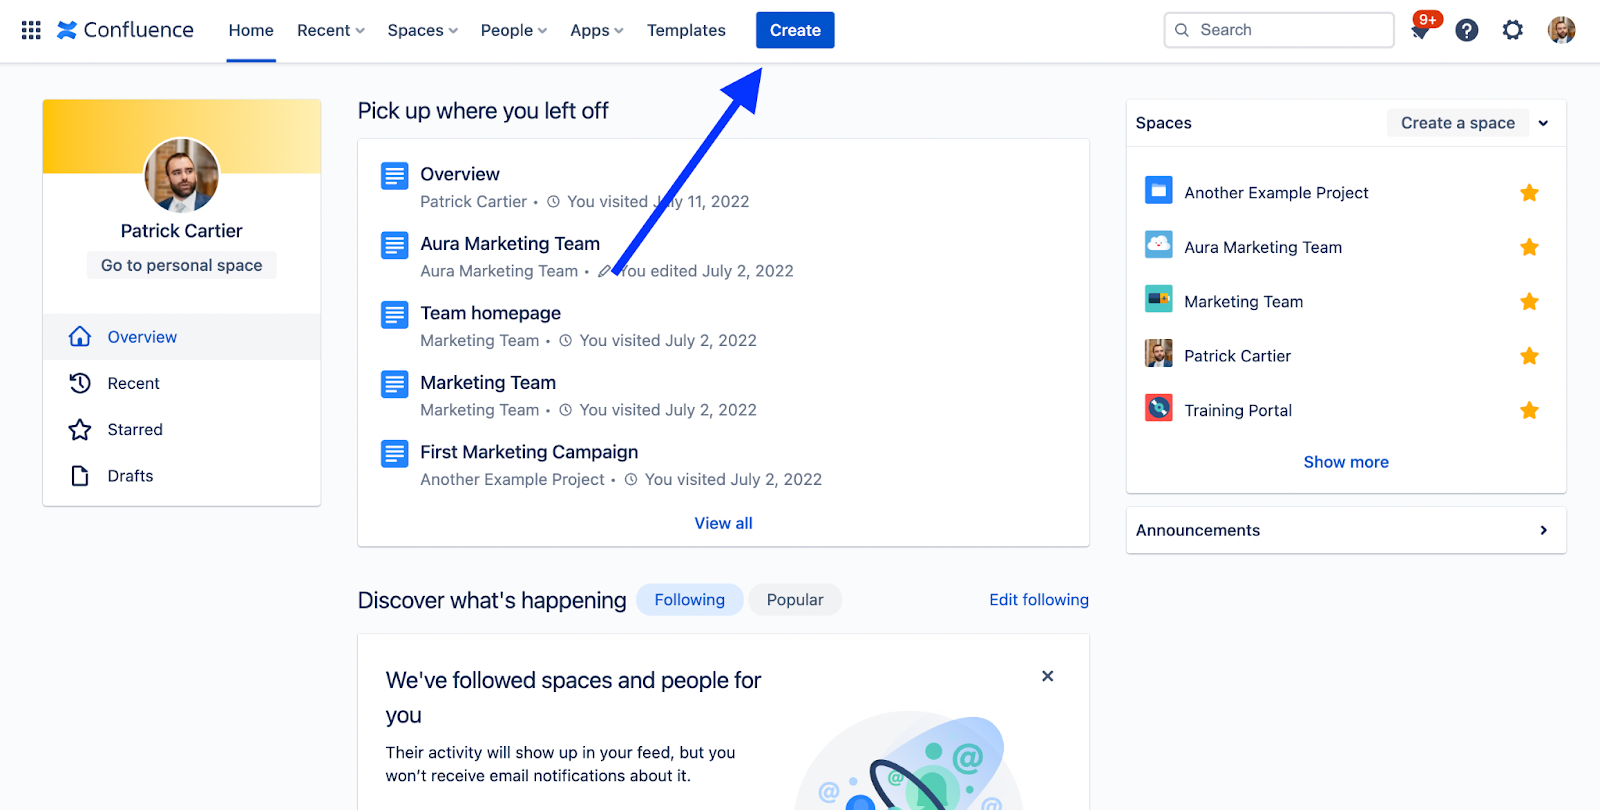button_create: (755, 9, 838, 53)
search_box: (1159, 10, 1399, 55)
